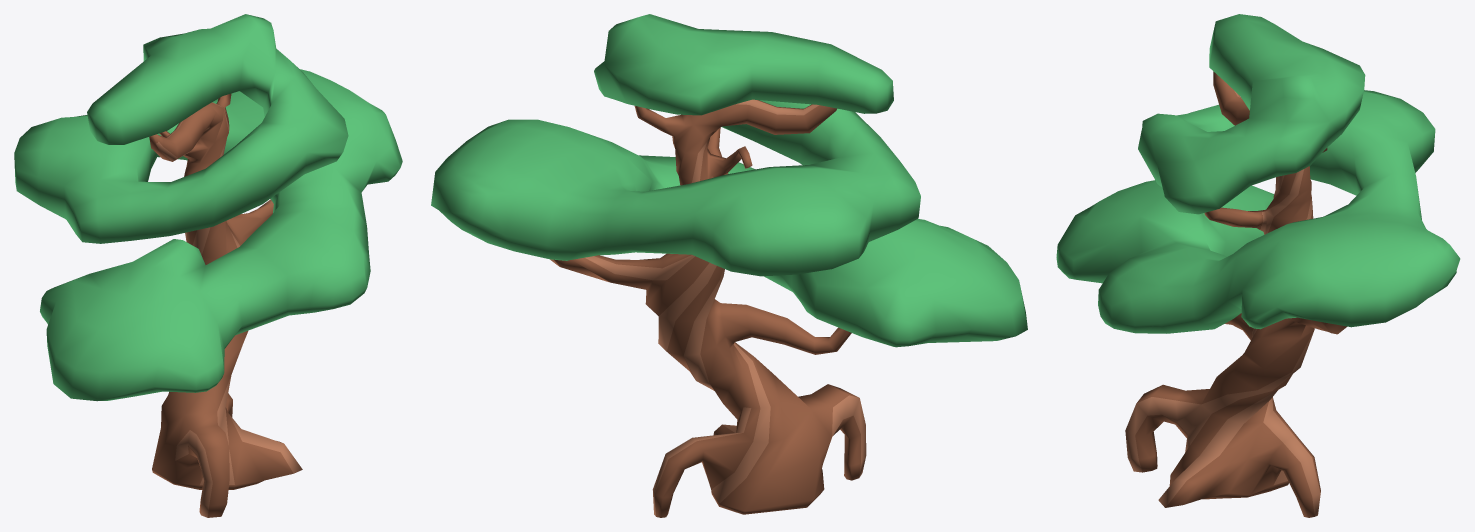
The model's file is TreeGiant_A_02_LOD2.gltf.
The picture shows the model from 3 angles, left to right: view 1: azimuth 30°, elevation 25°; view 2: azimuth 150°, elevation 25°; view 3: azimuth 270°, elevation 25°; orthographic projection. The views are drawn at different scales.
Parts seen in each view (by area): view 1: TreeGiant_A_02_LOD2_Cylinder.811; view 2: TreeGiant_A_02_LOD2_Cylinder.811; view 3: TreeGiant_A_02_LOD2_Cylinder.811.
Boxes of the visible parts, <box> form: TreeGiant_A_02_LOD2_Cylinder.811: <box>14,14,402,517</box>; TreeGiant_A_02_LOD2_Cylinder.811: <box>431,14,1027,517</box>; TreeGiant_A_02_LOD2_Cylinder.811: <box>1056,14,1460,517</box>.
Size of the model in its own units: 18.48 by 18.28 by 14.8.
1 material, 1 textured.
